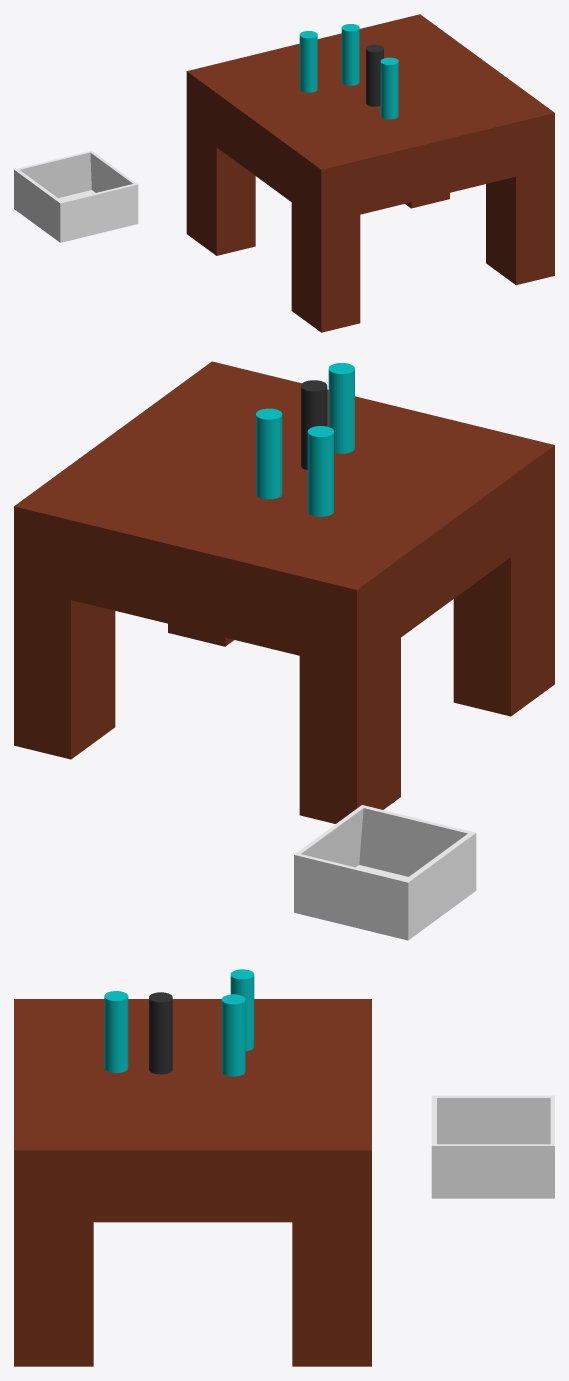
File: can_world_4_cans.dae
3 renders of one model, top to bottom at view 1: azimuth 30°, elevation 25°; view 2: azimuth 150°, elevation 25°; view 3: azimuth 270°, elevation 25°, orthographic. The views are drawn at different scales.
Parts seen in each view (by area): view 1: base (×8), SketchUp (×2); view 2: base (×8), SketchUp (×2); view 3: base (×7), SketchUp (×2).
Part boxes in pixels (left/top/right/bottom): base (×8): left=186, top=14, right=554, bottom=332; SketchUp (×2): left=14, top=150, right=138, bottom=242; base (×8): left=14, top=361, right=554, bottom=823; SketchUp (×2): left=294, top=805, right=476, bottom=940; base (×7): left=14, top=969, right=371, bottom=1366; SketchUp (×2): left=431, top=1095, right=554, bottom=1198.
Size of the model in its own units: 1.3 by 1.36 by 0.8.
